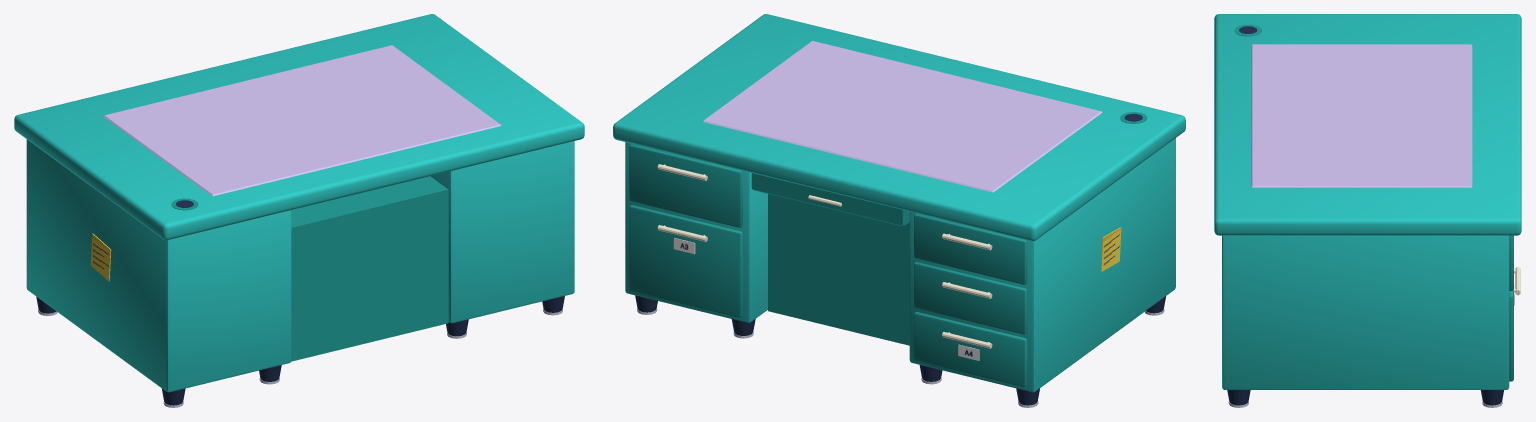
File: bureau_desk.glb
The picture shows the model from 3 angles, left to right: view 1: azimuth 30°, elevation 25°; view 2: azimuth 150°, elevation 25°; view 3: azimuth 270°, elevation 25°; orthographic projection.
Parts seen in each view (by area): view 1: bureau_desk; view 2: bureau_desk; view 3: bureau_desk.
Boxes of the visible parts, left/top/right/bottom form: bureau_desk: left=14, top=14, right=584, bottom=407; bureau_desk: left=613, top=14, right=1185, bottom=407; bureau_desk: left=1214, top=14, right=1521, bottom=407.
Bounding box in the file's own units: 16 × 7 × 10.
Materials: 1 (1 with a texture image).
